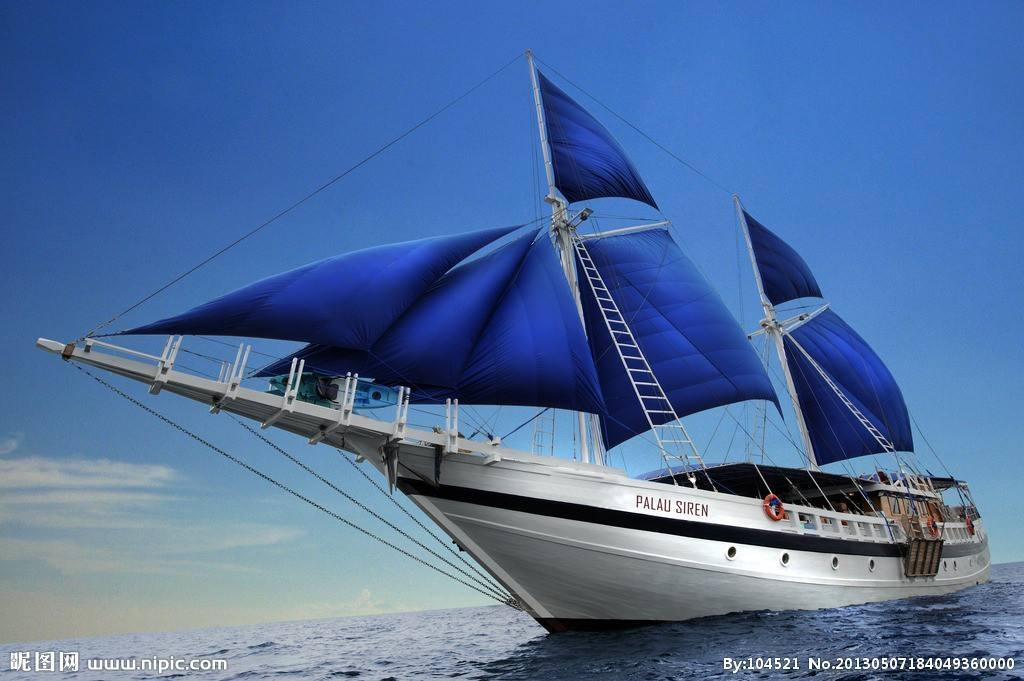fanchuan: (33, 65, 1003, 626)
